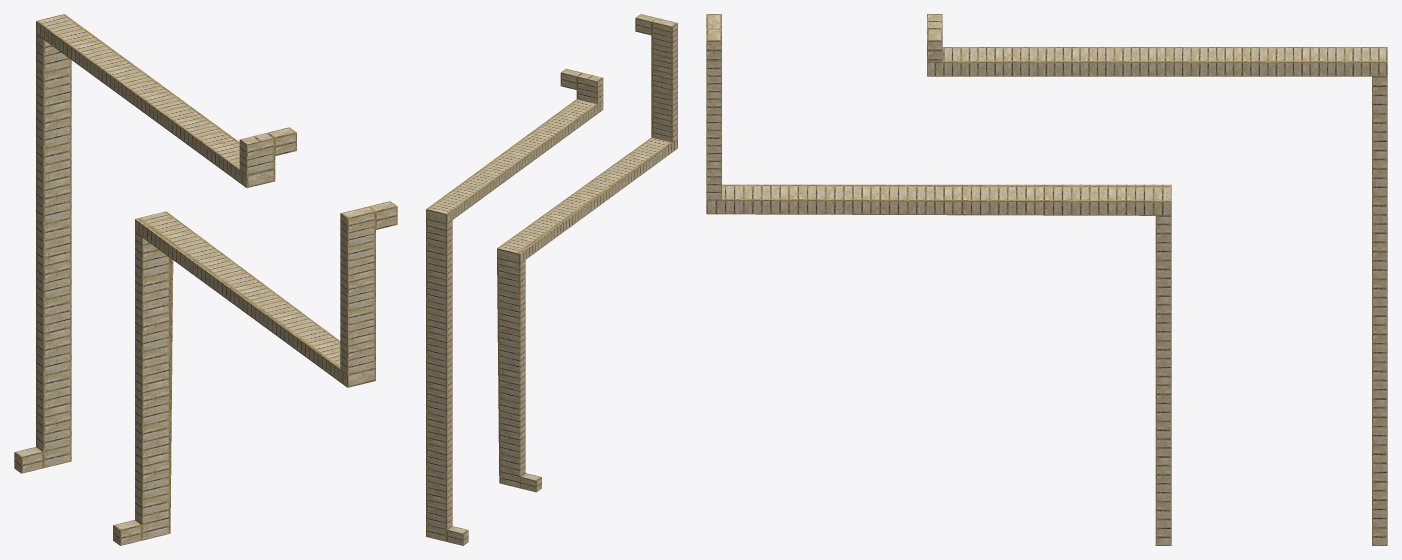
File: bridge_structure_ladder_climb_frame.dae
3 views of the same model, side by side, from view 1: azimuth 30°, elevation 25°; view 2: azimuth 150°, elevation 25°; view 3: azimuth 270°, elevation 25° (orthographic). The views are drawn at different scales.
Parts seen in each view (by area): view 1: bridge_structure_ladder_climb_frame; view 2: bridge_structure_ladder_climb_frame; view 3: bridge_structure_ladder_climb_frame.
Part boxes in pixels (x1=…): bridge_structure_ladder_climb_frame: x1=14, y1=14, x2=397, y2=545; bridge_structure_ladder_climb_frame: x1=426, y1=14, x2=677, y2=545; bridge_structure_ladder_climb_frame: x1=706, y1=14, x2=1387, y2=545.
Bounding box in the file's own units: 0.835 × 6.26 × 5.23.
Materials: 1 (1 with a texture image).
